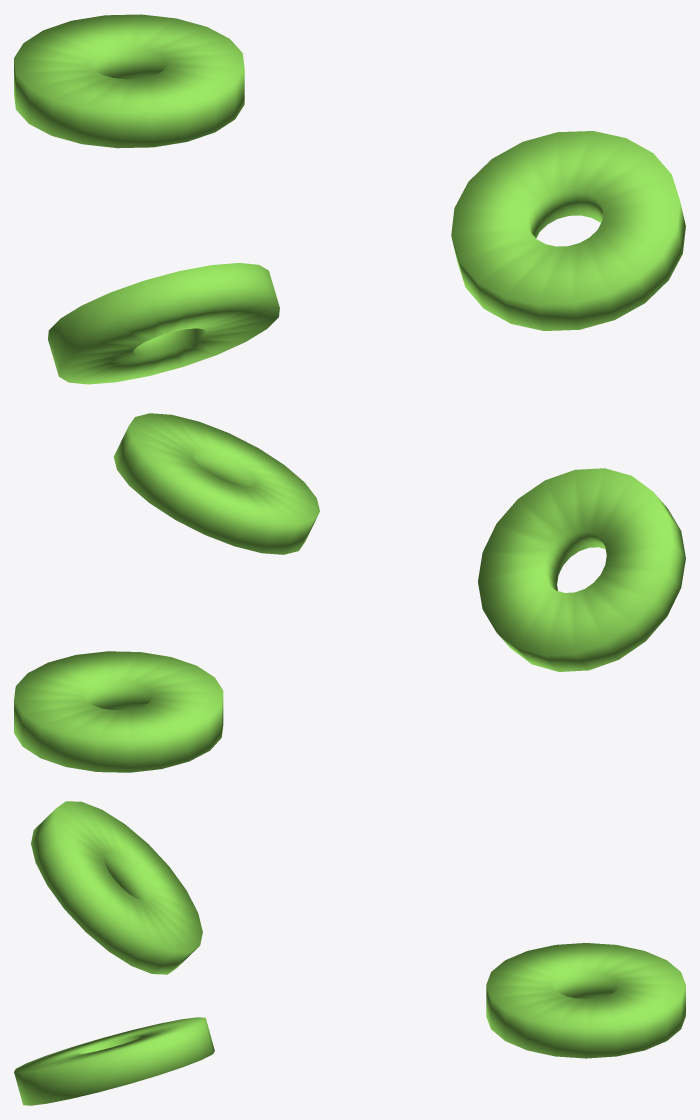
File: OnionChop.glb
3 views of the same model, one above another, from view 1: azimuth 30°, elevation 25°; view 2: azimuth 150°, elevation 25°; view 3: azimuth 270°, elevation 25° (orthographic). The views are drawn at different scales.
Parts seen in each view (by area): view 1: Circle.003, Circle.002, Circle.004; view 2: Circle.004, Circle.002, Circle.003; view 3: Circle.002, Circle.004, Circle.003.
Boxes of the visible parts, left/top/right/bottom form: Circle.003: left=451, top=131, right=685, bottom=330; Circle.002: left=14, top=14, right=244, bottom=148; Circle.004: left=48, top=263, right=279, bottom=384; Circle.004: left=478, top=468, right=685, bottom=671; Circle.002: left=14, top=651, right=223, bottom=772; Circle.003: left=113, top=413, right=319, bottom=554; Circle.002: left=486, top=943, right=685, bottom=1058; Circle.004: left=31, top=801, right=202, bottom=974; Circle.003: left=14, top=1017, right=214, bottom=1105.
Size of the model in its own units: 0.8826 by 0.232 by 0.9871.
